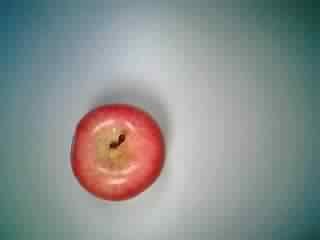apple: (62, 101, 169, 204)
